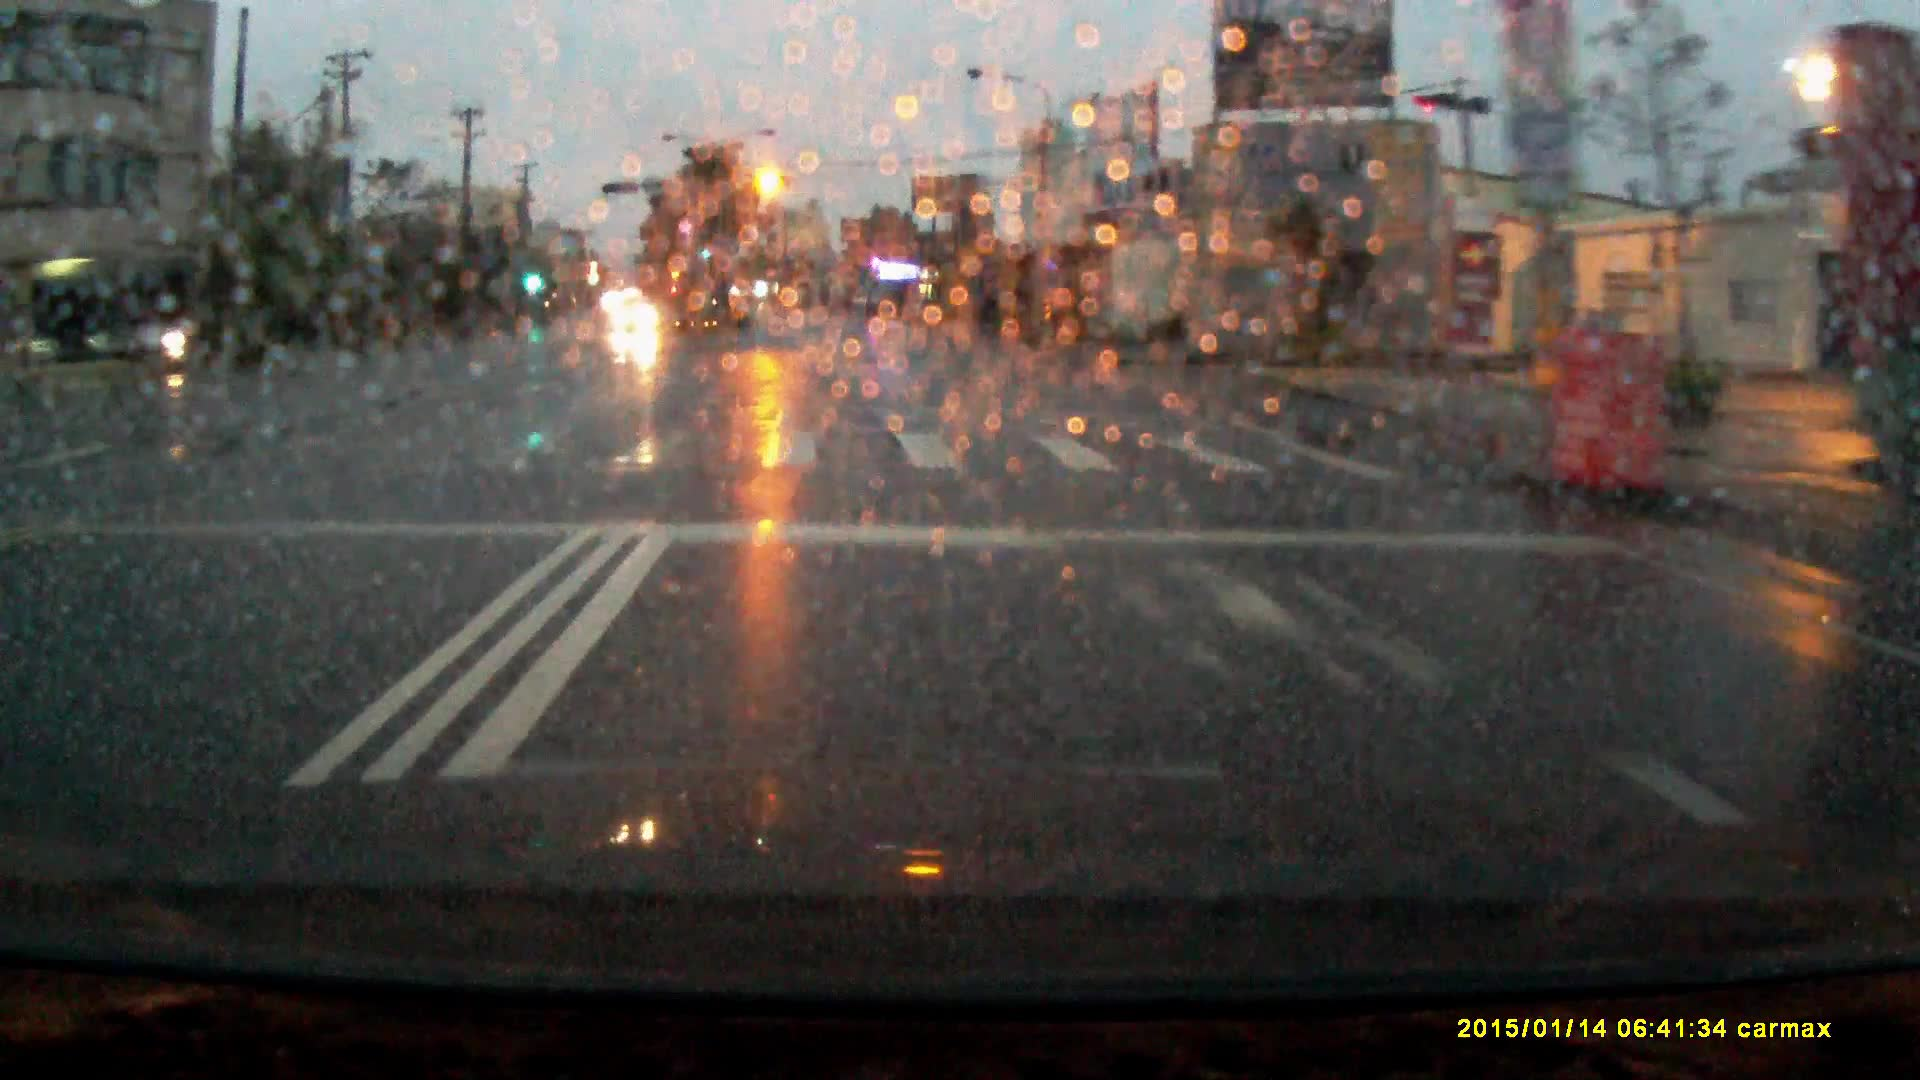rider: (156, 296, 200, 376)
vehicle: (613, 297, 662, 337)
